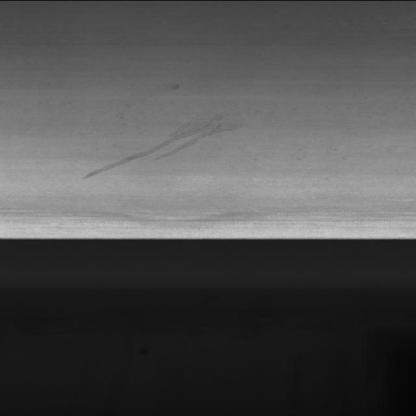water_spot: (75, 78, 258, 184)
